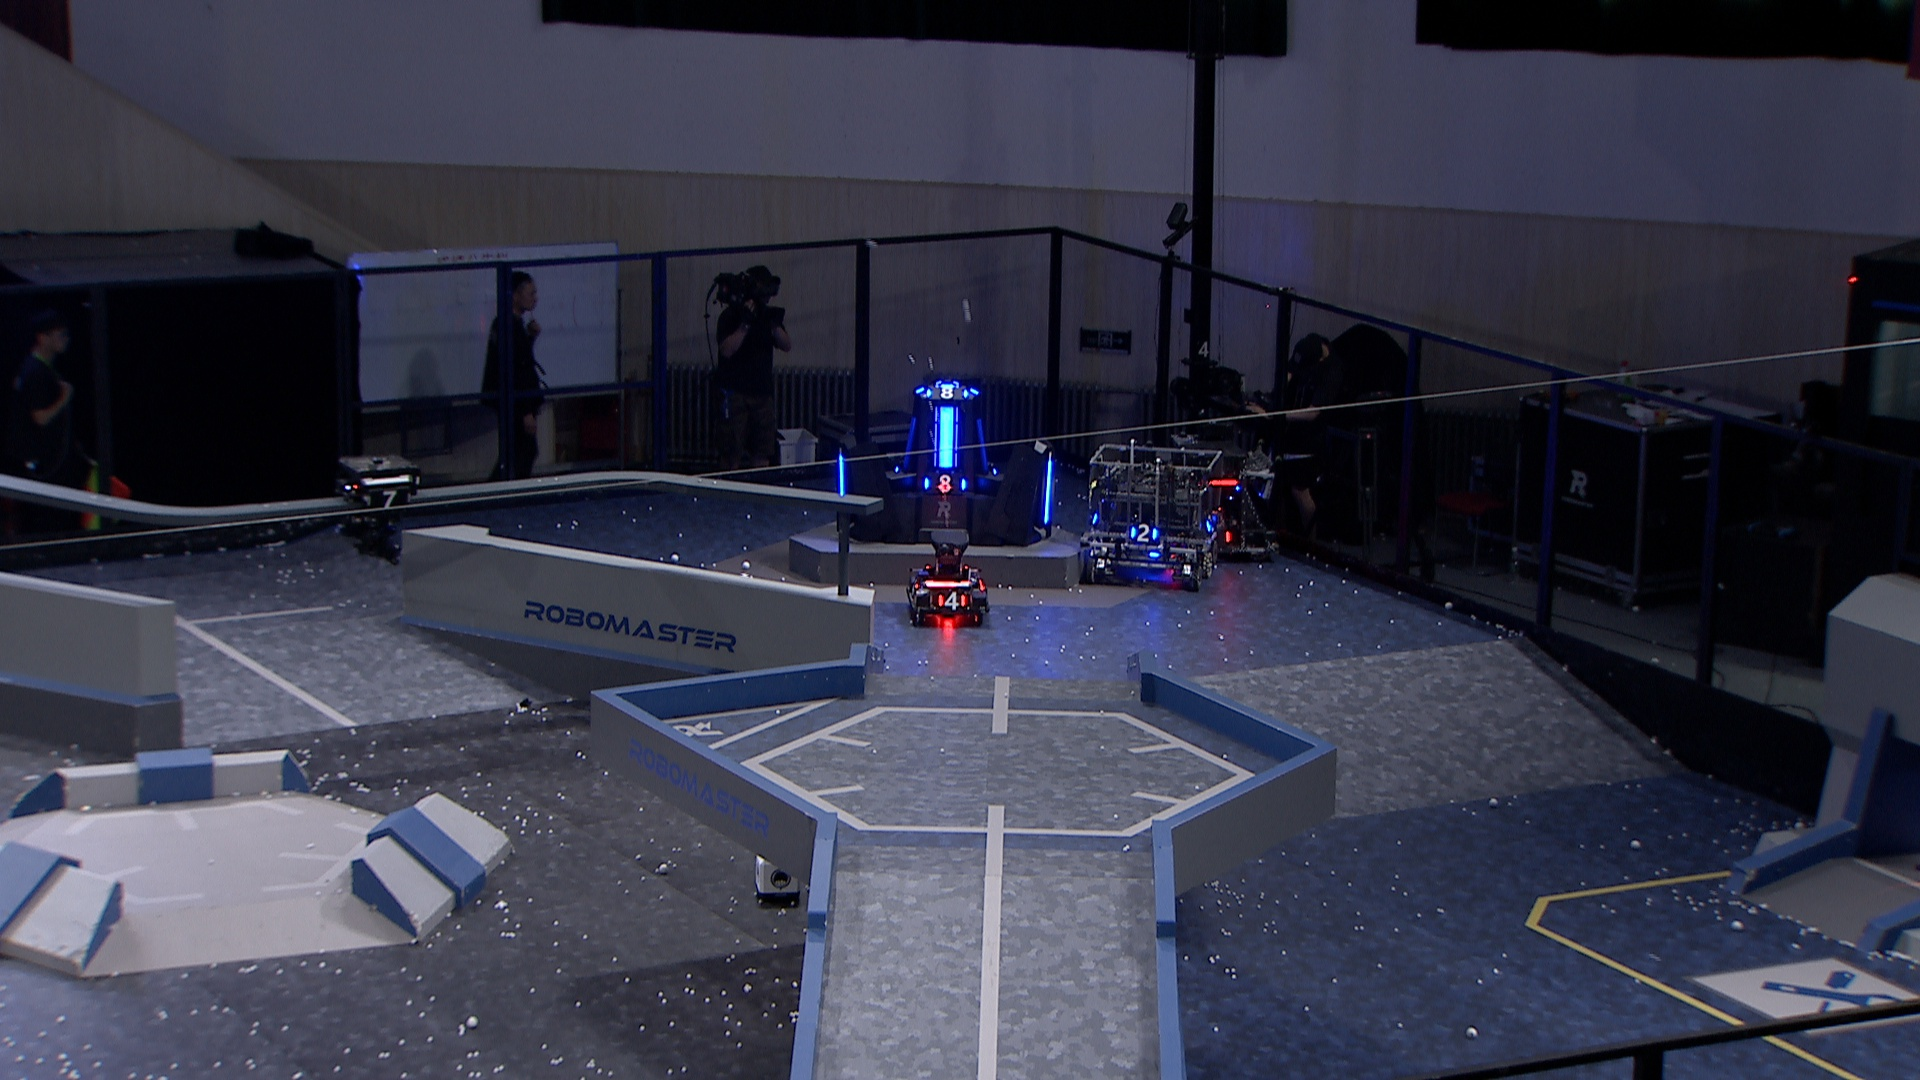armor: (363, 489, 414, 513), (939, 406, 956, 471), (975, 418, 994, 471), (1040, 458, 1055, 527), (923, 472, 968, 495), (902, 418, 920, 472), (926, 384, 971, 404), (1127, 522, 1160, 546), (938, 589, 969, 612), (836, 452, 849, 498), (1203, 514, 1218, 534)
base: (836, 380, 1058, 550)
car: (1077, 443, 1228, 589), (1166, 433, 1280, 556), (905, 527, 992, 626)
watcher: (335, 454, 425, 567)
